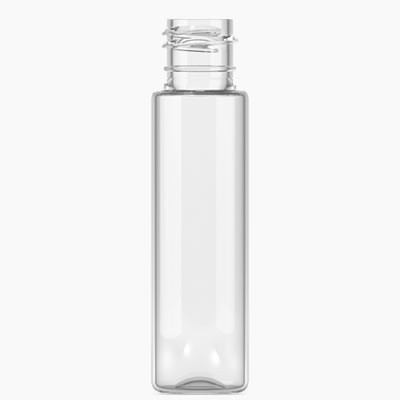emptybottle: (151, 19, 250, 395)
